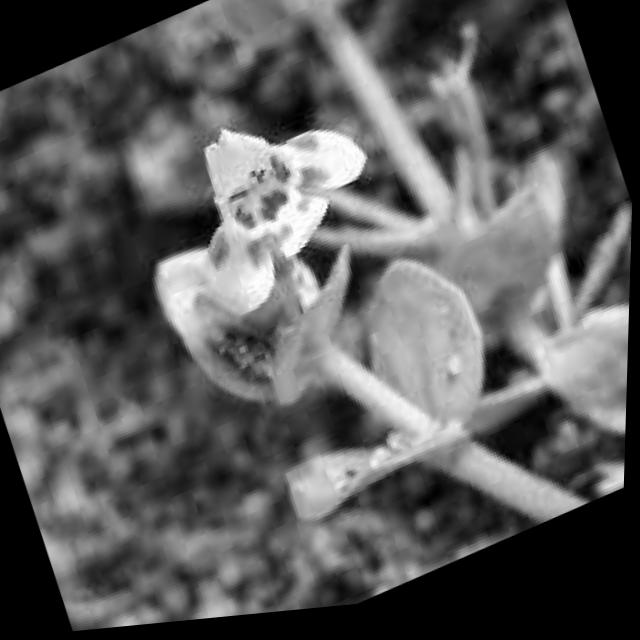Flower: (133, 62, 413, 344)
